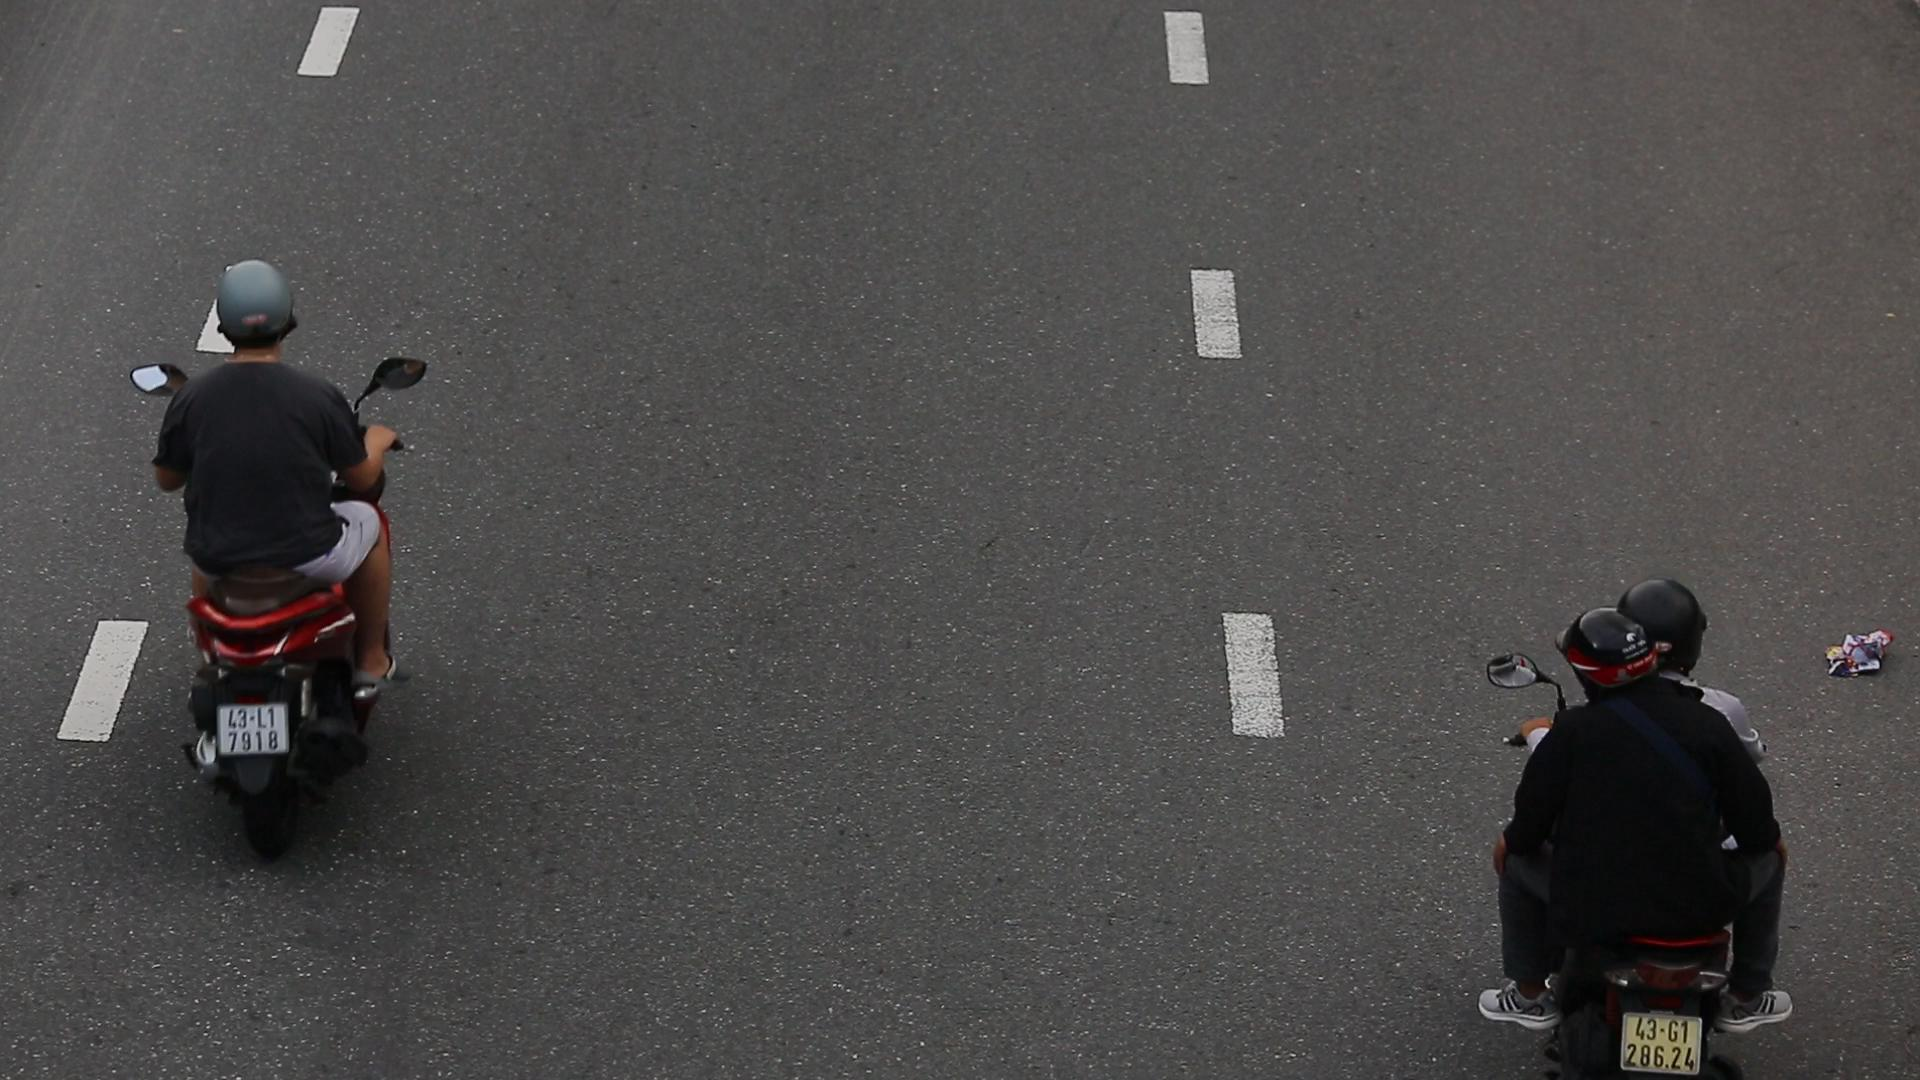motobike: (1447, 534, 1866, 1080), (113, 233, 448, 858)
